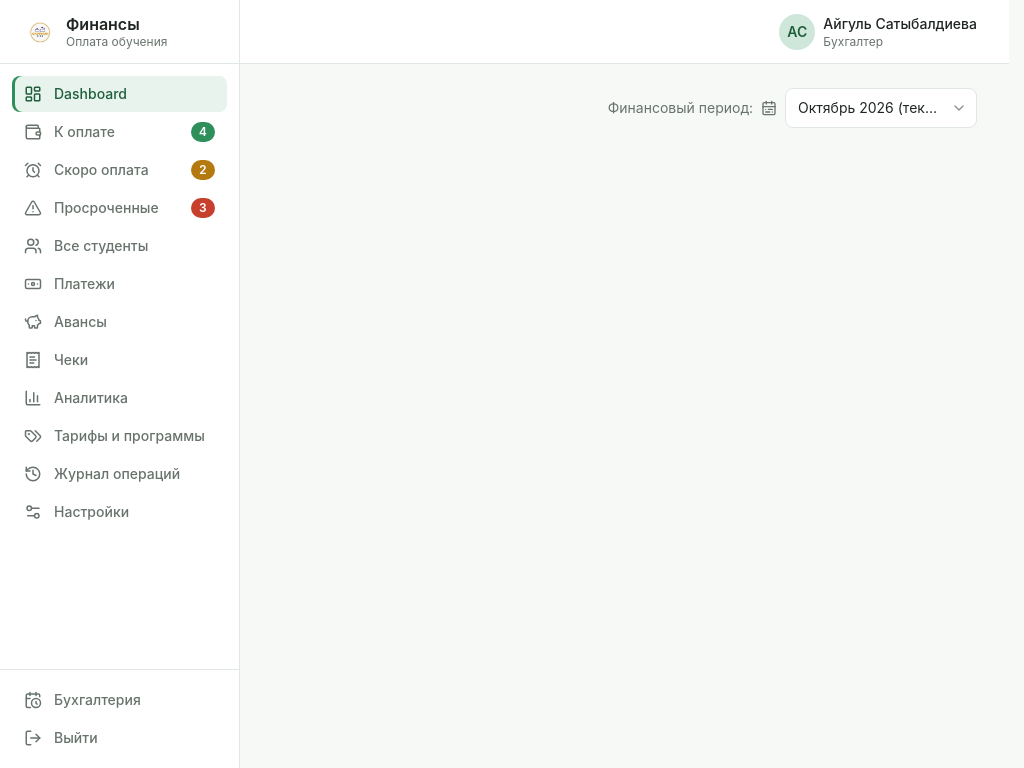
FinanceLayout › switches the finance period to a past month or a custom range
Select "Сентябрь 2026" in the dropdown named "Финансовый период": (881, 108) [785,88,977,128]
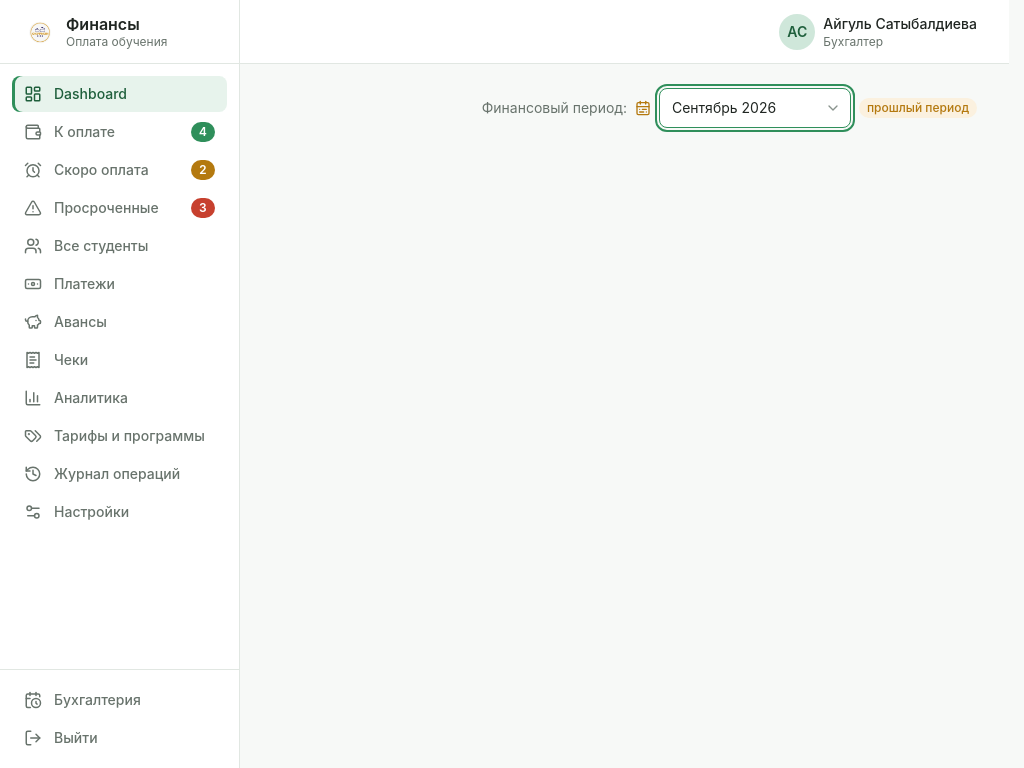
Select "Произвольный период…" in the dropdown named "Финансовый период": (755, 108) [659,88,851,128]
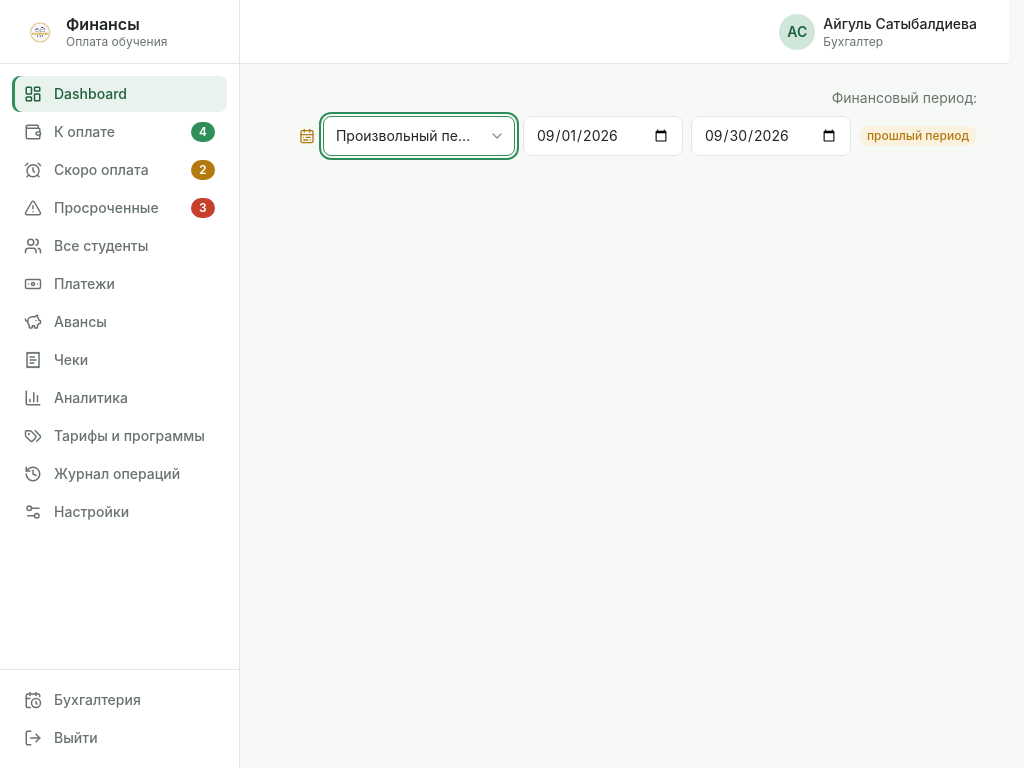
expect the date field named "Начало периода" holds "2026-09-01": met, box [523,116,683,156]
expect the date field named "Конец периода" holds "2026-09-30": met, box [691,116,851,156]
